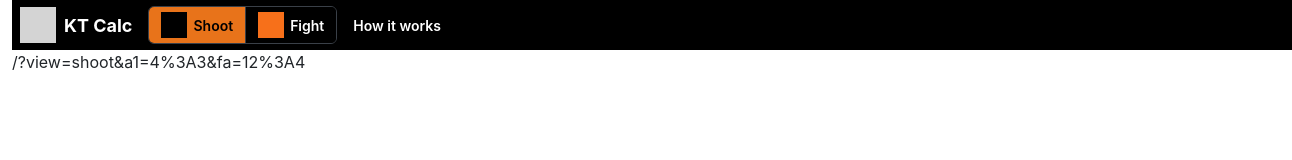
Test: preserves shared parameters when switching calculator views
The image size is (1292, 160).
Click the link with aria-label "Kill Team Fight Calculator" at (291, 25), box [245,7,336,43]
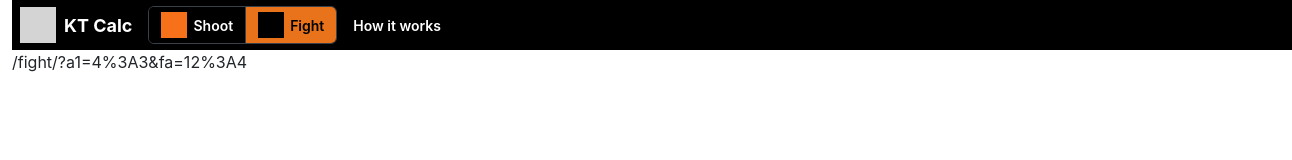
Check: the text with test id "location" reads "/fight/?a1=4%3A3&fa=12%3A4", box [12,50,247,74]
Click the link with aria-label "Kill Team Shoot Calculator" at (197, 25), box [150,7,245,43]
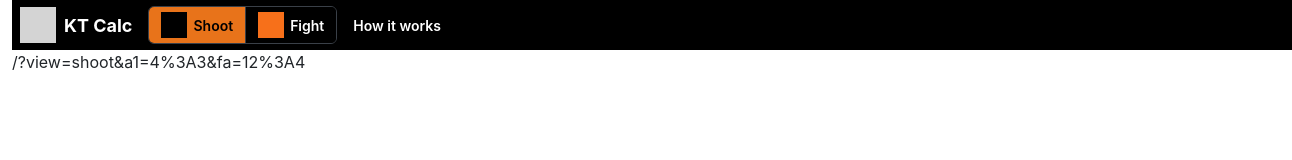
Check: the text with test id "location" reads "/?view=shoot&a1=4%3A3&fa=12%3A4", box [18,52,305,72]
